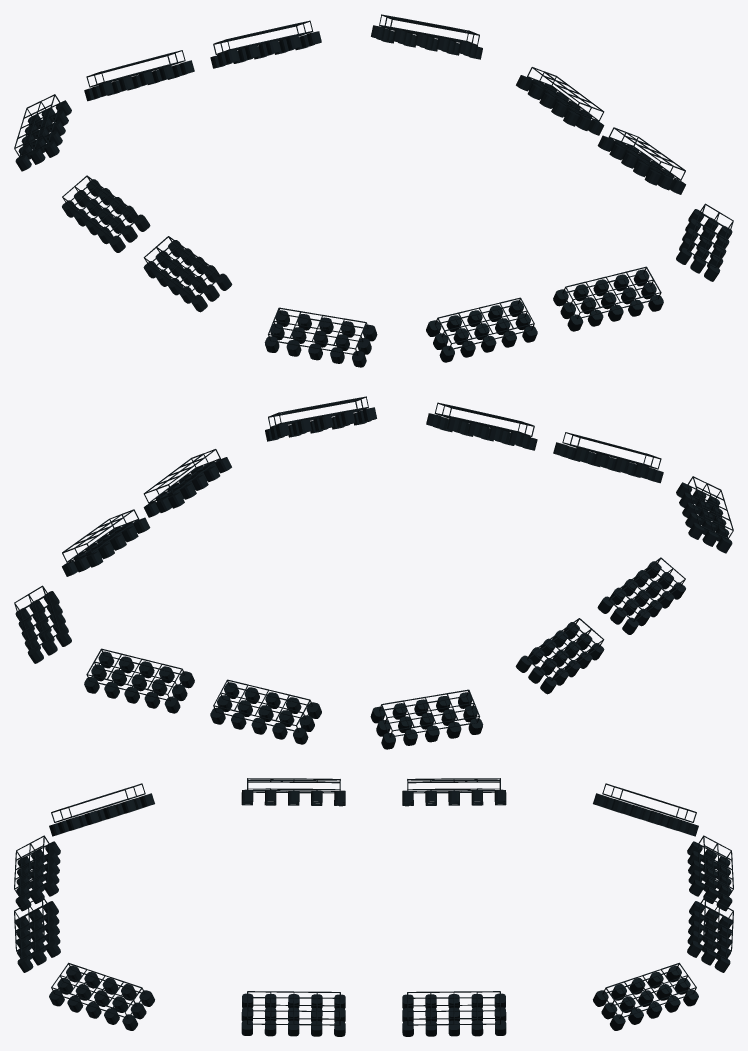
The model's file is SM_SpotLight02.fbx.
The picture shows the model from 3 angles, top to bottom: view 1: azimuth 30°, elevation 25°; view 2: azimuth 150°, elevation 25°; view 3: azimuth 270°, elevation 25°; orthographic projection.
Visible parts, largest first — view 1: SM_SpotLight02; view 2: SM_SpotLight02; view 3: SM_SpotLight02.
Part boxes in pixels (x1=…): SM_SpotLight02: x1=14, y1=14, x2=733, y2=367; SM_SpotLight02: x1=14, y1=396, x2=733, y2=749; SM_SpotLight02: x1=14, y1=778, x2=733, y2=1036.
Bounding box in the file's own units: 9557 × 691 × 12267.
